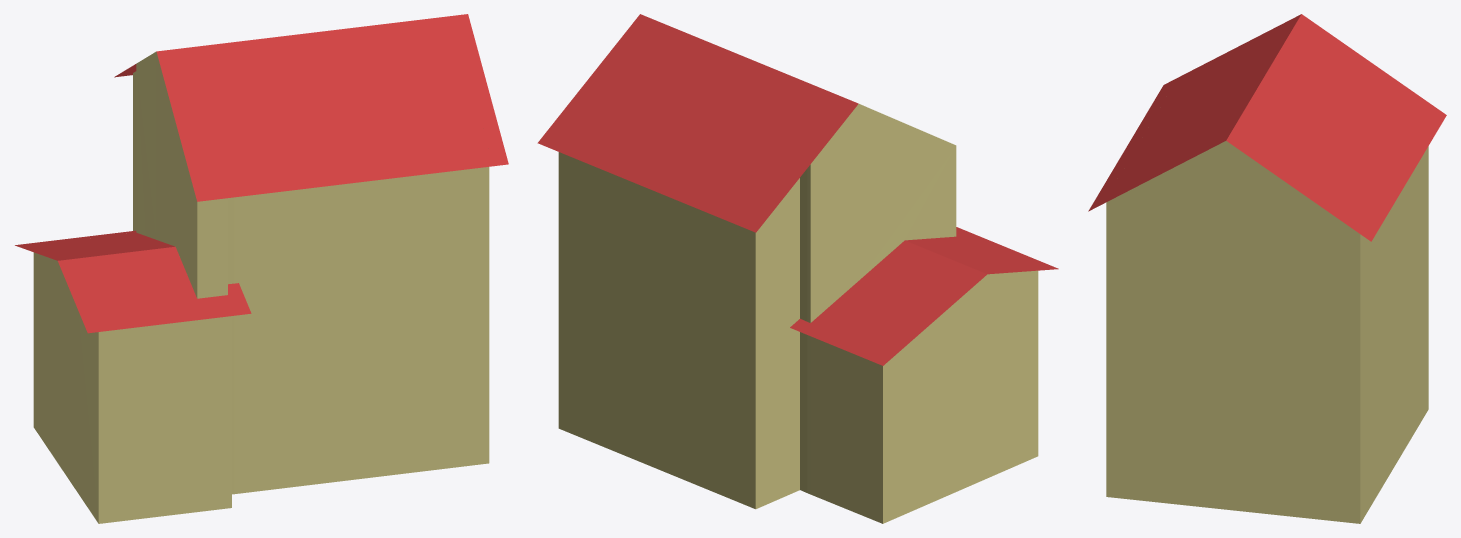
The picture shows the model from 3 angles, left to right: view 1: azimuth 30°, elevation 25°; view 2: azimuth 150°, elevation 25°; view 3: azimuth 270°, elevation 25°; orthographic projection. The views are drawn at different scales.
Parts seen in each view (by area): view 1: group_5, group_3, group_9, group_7, group_4, group_8; view 2: group_5, group_9, group_3, group_7, group_4, group_8; view 3: group_5, group_3, group_4.
Part boxes in pixels (bbox=[...]): group_5: bbox=[133, 51, 489, 494]; group_3: bbox=[115, 14, 488, 201]; group_9: bbox=[33, 252, 231, 523]; group_7: bbox=[15, 230, 251, 333]; group_4: bbox=[114, 14, 508, 197]; group_8: bbox=[18, 245, 250, 331]; group_5: bbox=[558, 104, 956, 509]; group_9: bbox=[810, 270, 1038, 523]; group_3: bbox=[537, 15, 858, 232]; group_7: bbox=[790, 227, 1058, 365]; group_4: bbox=[610, 14, 810, 230]; group_8: bbox=[794, 227, 1054, 364]; group_5: bbox=[1106, 141, 1428, 523]; group_3: bbox=[1107, 14, 1446, 241]; group_4: bbox=[1088, 62, 1444, 211].
Size of the model in its own units: 16.22 by 11.83 by 13.66.
